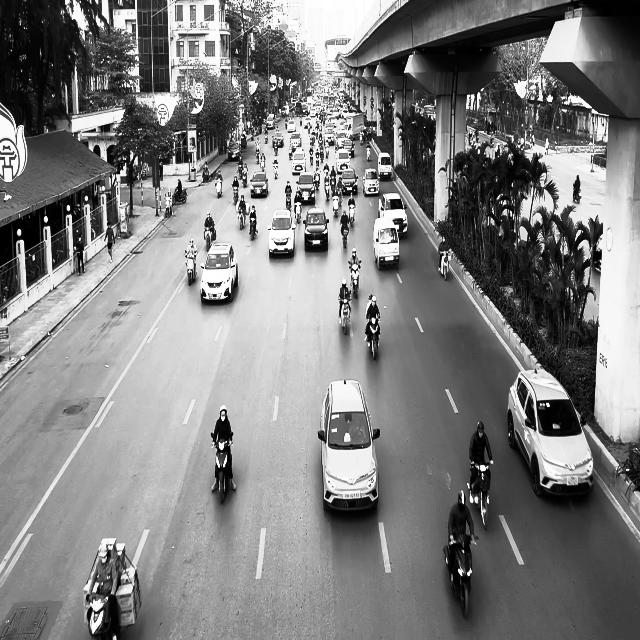car: (507, 368, 594, 498), (317, 378, 380, 512), (200, 242, 238, 303), (266, 208, 296, 258), (372, 217, 400, 270), (378, 192, 408, 239), (303, 208, 329, 252), (296, 172, 315, 204), (362, 168, 380, 195), (250, 172, 268, 198), (378, 152, 392, 180), (228, 141, 241, 160)
motorbike: (443, 534, 478, 619), (467, 459, 493, 530), (210, 434, 233, 504), (365, 316, 380, 360), (348, 260, 361, 298), (339, 294, 351, 335), (184, 250, 197, 286), (204, 224, 214, 252), (440, 252, 450, 280), (249, 218, 258, 240), (341, 223, 348, 248), (215, 178, 222, 198), (573, 187, 581, 203)
